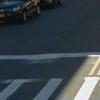Crosswalk: (5, 60, 99, 100)
